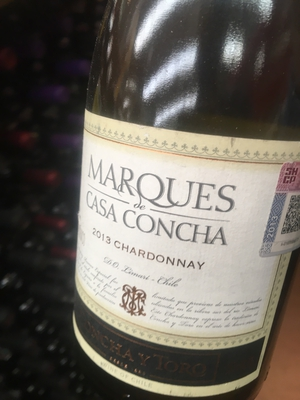marques de casa concha chardonnay: (65, 12, 300, 393)
